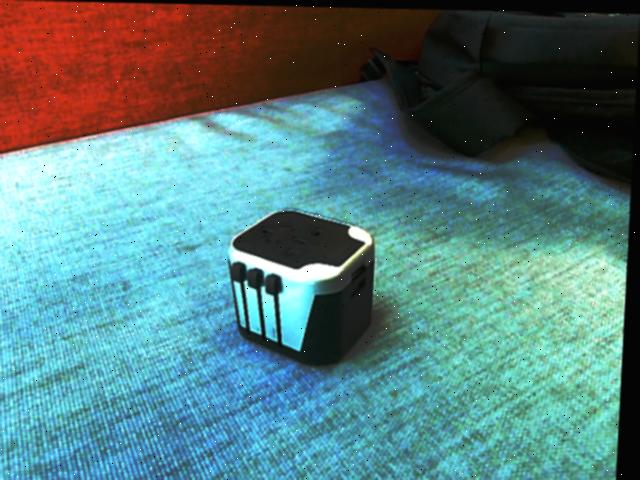adapter: (225, 206, 380, 365)
